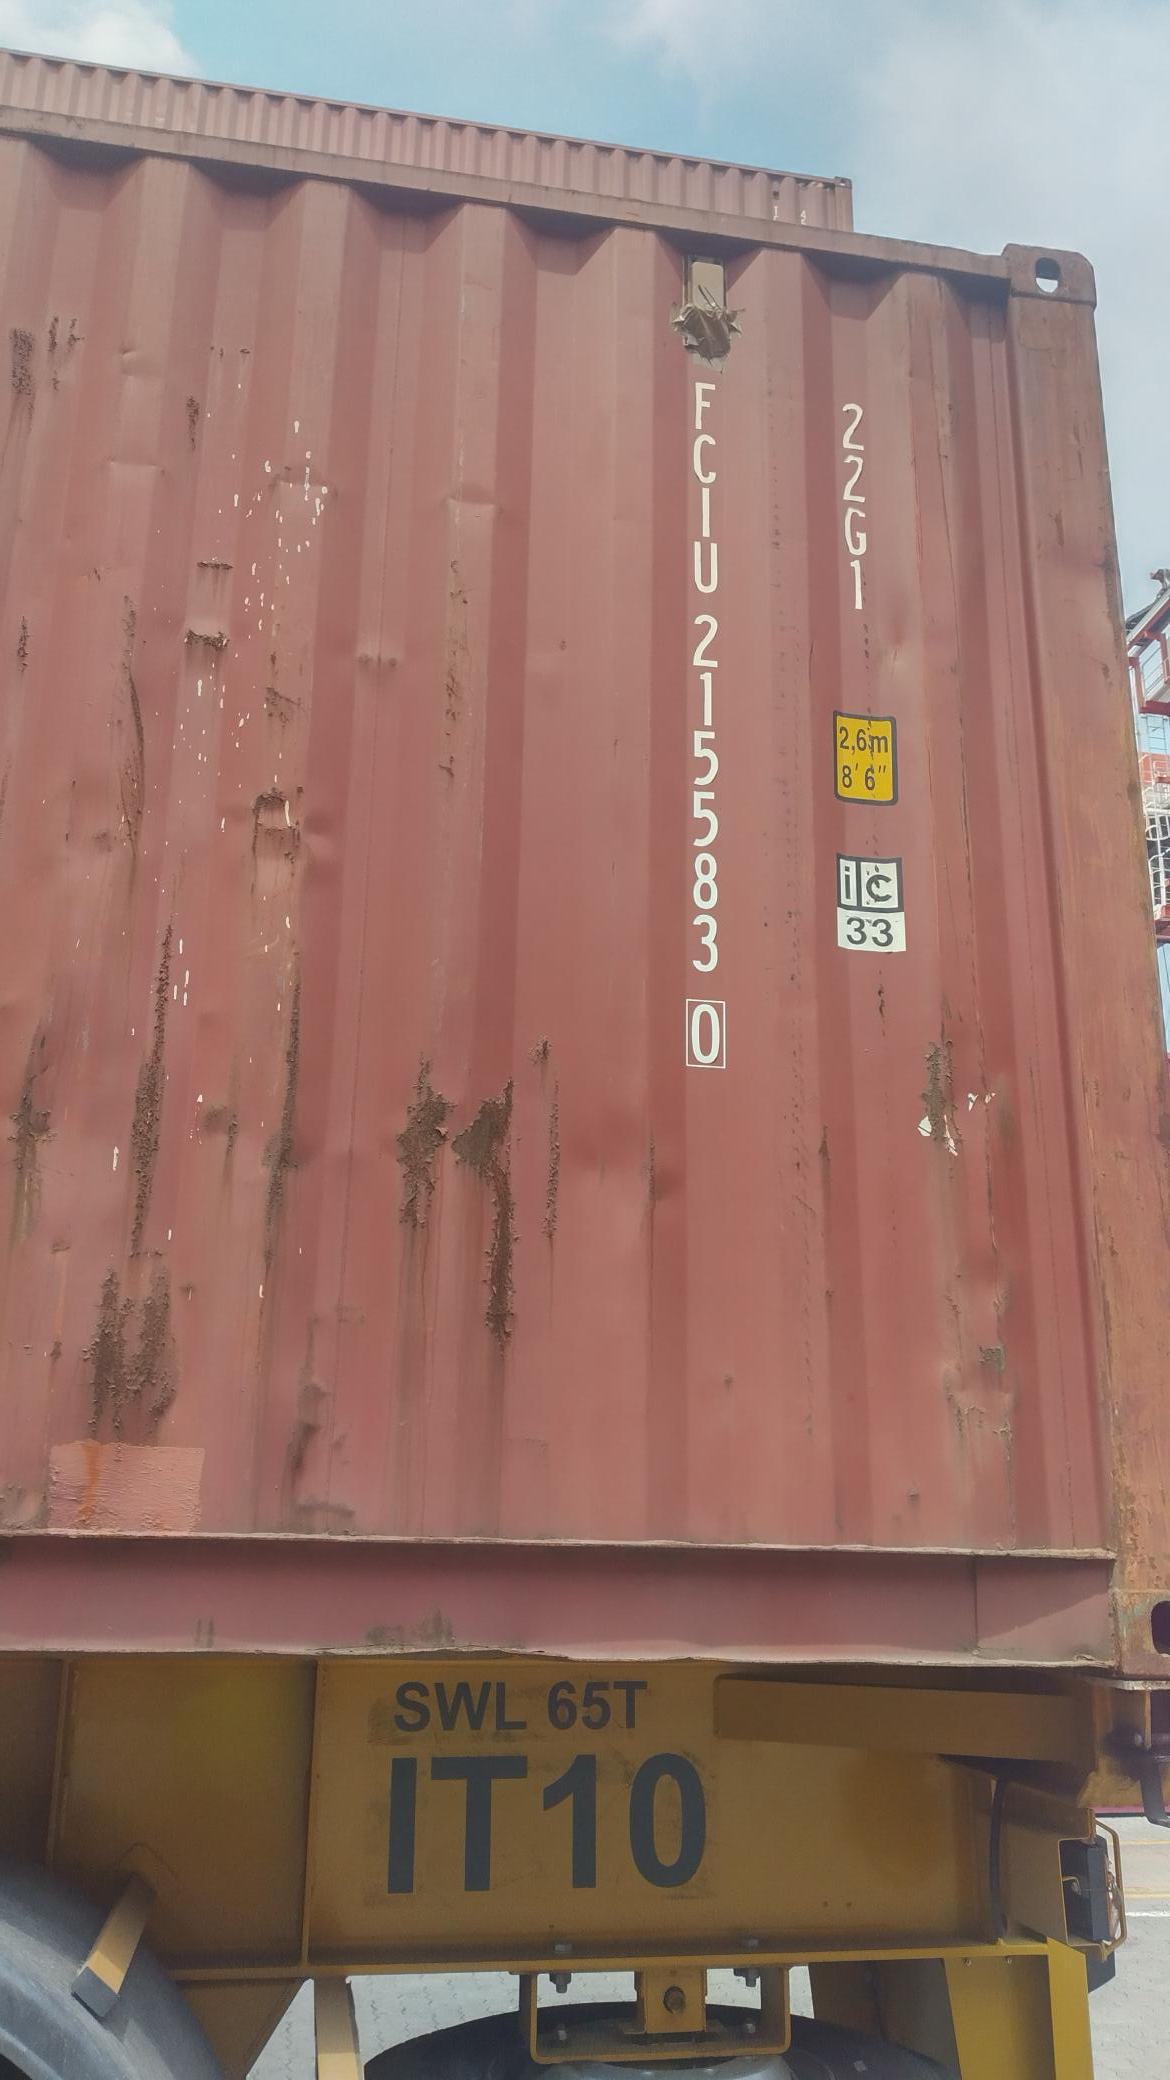dented: (159, 591, 433, 713)
rust: (71, 931, 207, 1450), (379, 1076, 557, 1344)
